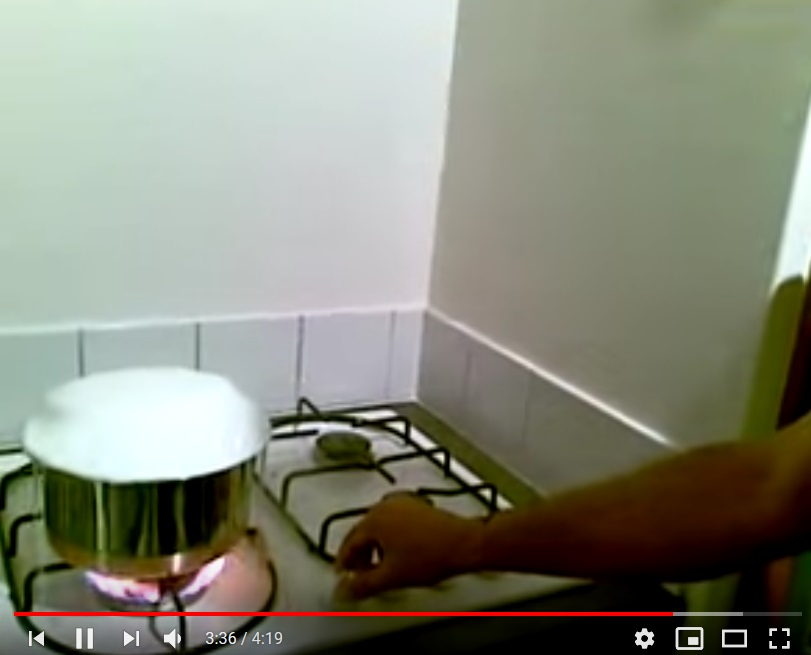Boiled: (22, 360, 280, 586)
